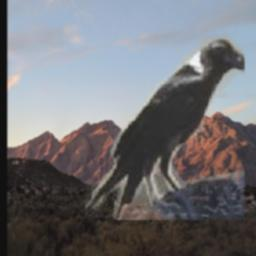Crow: (82, 31, 245, 221)
